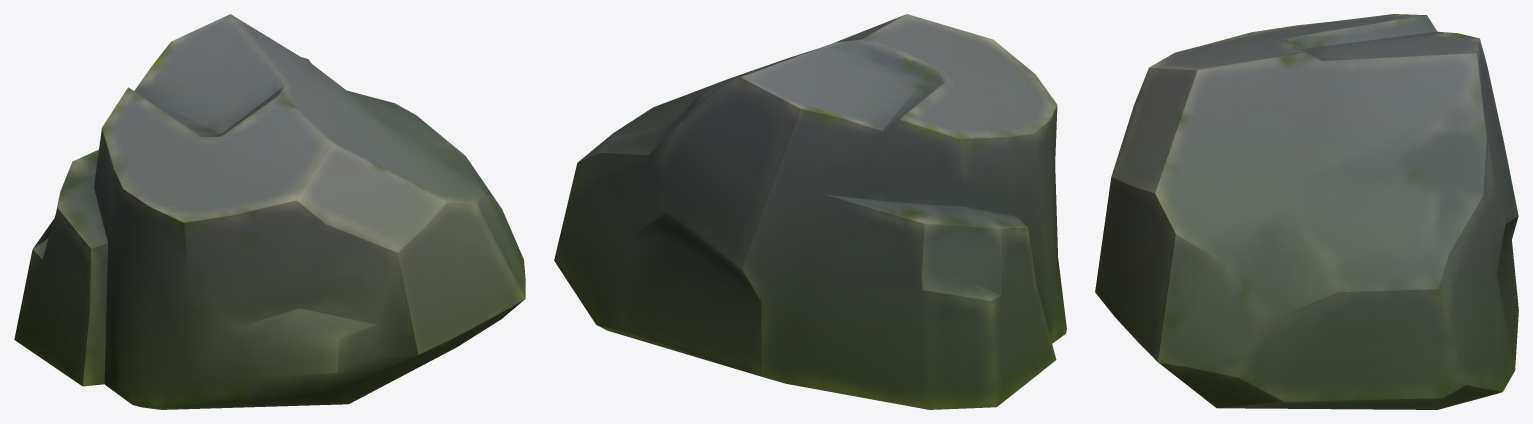
File: Rock_Medium_2.gltf
3 renders of one model, left to right at view 1: azimuth 30°, elevation 25°; view 2: azimuth 150°, elevation 25°; view 3: azimuth 270°, elevation 25°, orthographic. The views are drawn at different scales.
Visible parts, largest first — view 1: Rock_Medium_2; view 2: Rock_Medium_2; view 3: Rock_Medium_2.
Part boxes in pixels (x1=…): Rock_Medium_2: x1=14, y1=14, x2=525, y2=409; Rock_Medium_2: x1=554, y1=14, x2=1066, y2=409; Rock_Medium_2: x1=1095, y1=14, x2=1518, y2=409.
Size of the model in its own units: 3.05 by 1.9 by 2.48.
1 material, 1 textured.
